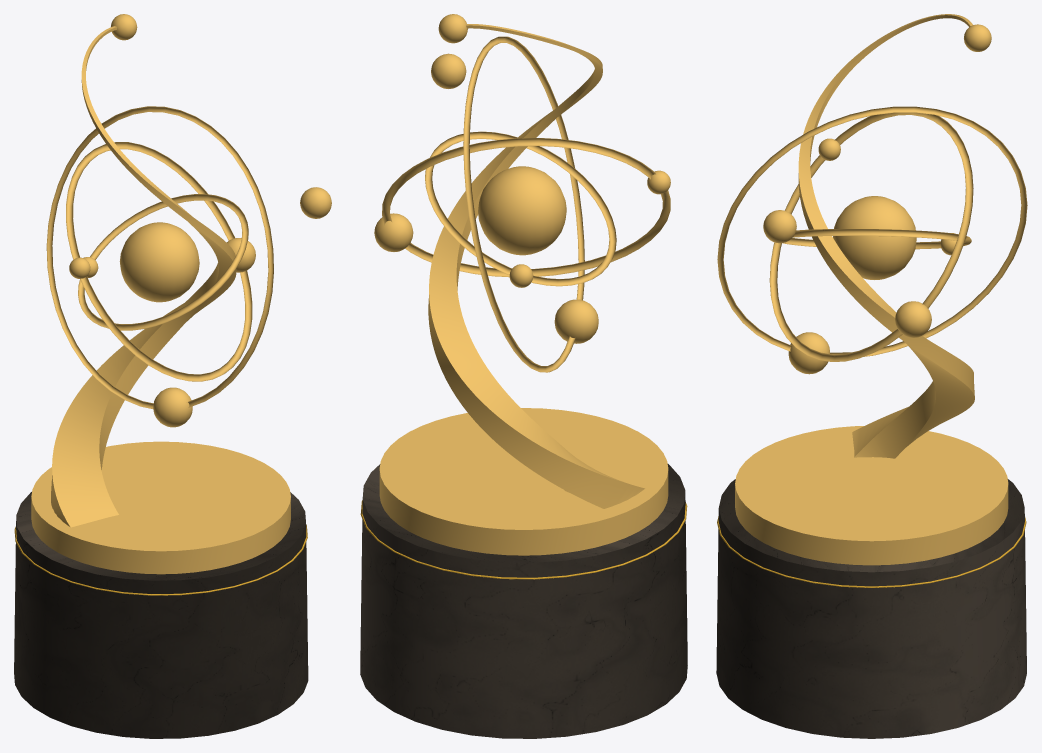
Rendered from physics.glb.
The picture shows the model from 3 angles, left to right: view 1: azimuth 30°, elevation 25°; view 2: azimuth 150°, elevation 25°; view 3: azimuth 270°, elevation 25°; orthographic projection. The views are drawn at different scales.
Parts seen in each view (by area): view 1: marble_column, gold_cap, curved_pole, nucleus, orbit_b, orbit_c, orbit_a, electron_5, electron_3, gold_inlay_ring, tip_ball; view 2: marble_column, gold_cap, curved_pole, nucleus, orbit_c, orbit_b, orbit_a, electron_5, electron_4, electron_3, gold_inlay_ring, tip_ball; view 3: marble_column, gold_cap, curved_pole, orbit_b, nucleus, orbit_c, orbit_a, electron_5, electron_4, electron_3, gold_inlay_ring, tip_ball.
Boxes of the visible parts, box(x1,y1,x2,y2) form: marble_column: box(14, 492, 308, 738); gold_cap: box(31, 441, 290, 574); curved_pole: box(51, 26, 236, 527); nucleus: box(119, 222, 199, 302); orbit_b: box(46, 106, 273, 408); orbit_c: box(66, 142, 252, 381); orbit_a: box(78, 194, 248, 330); electron_5: box(153, 387, 192, 427); electron_3: box(300, 187, 331, 218); gold_inlay_ring: box(14, 524, 307, 595); tip_ball: box(111, 14, 137, 40); marble_column: box(360, 464, 687, 738); gold_cap: box(379, 408, 668, 555); curved_pole: box(428, 24, 644, 508); nucleus: box(478, 166, 566, 255); orbit_c: box(382, 138, 670, 277); orbit_b: box(463, 36, 584, 372); orbit_a: box(425, 131, 616, 286); electron_5: box(554, 299, 598, 343); electron_4: box(374, 213, 413, 251); electron_3: box(431, 53, 466, 88); gold_inlay_ring: box(360, 500, 687, 579); tip_ball: box(438, 14, 467, 43); marble_column: box(716, 479, 1026, 738); gold_cap: box(735, 426, 1008, 565); curved_pole: box(798, 14, 974, 458); orbit_b: box(717, 106, 1027, 356); nucleus: box(833, 196, 916, 279); orbit_c: box(769, 112, 973, 361); orbit_a: box(782, 229, 971, 249); electron_5: box(788, 332, 829, 374); electron_4: box(895, 301, 931, 337); electron_3: box(763, 210, 796, 243); gold_inlay_ring: box(717, 516, 1026, 587); tip_ball: box(964, 24, 991, 51).
Size of what is drawn, in the model's own units: 0.4302 by 1 by 0.4308.
3 materials, 1 textured.
